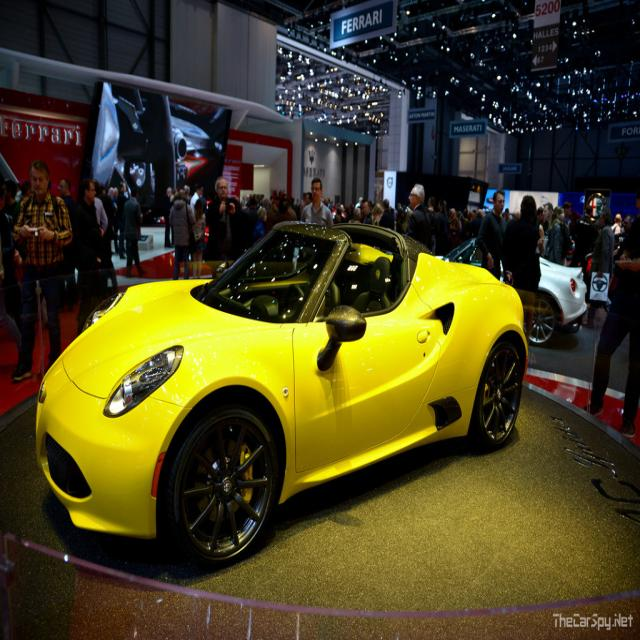car: (42, 206, 532, 563)
